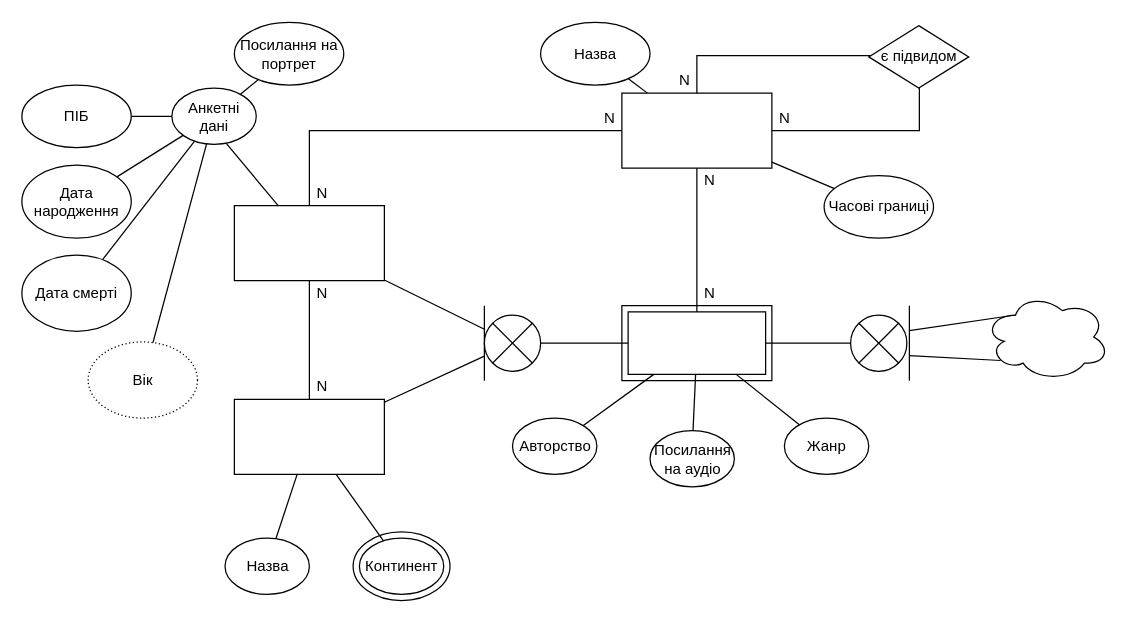
This 1131x623 diagram has some shape labels left out. Here are the shapes that lost their labels. From the top down, the centre of each, then its label:
the point at 696,130: Напрямок (стиль)
the point at 308,242: Композитор
the point at 696,342: Твір
the point at 1046,336: Множина жанрів
the point at 308,436: Країна
